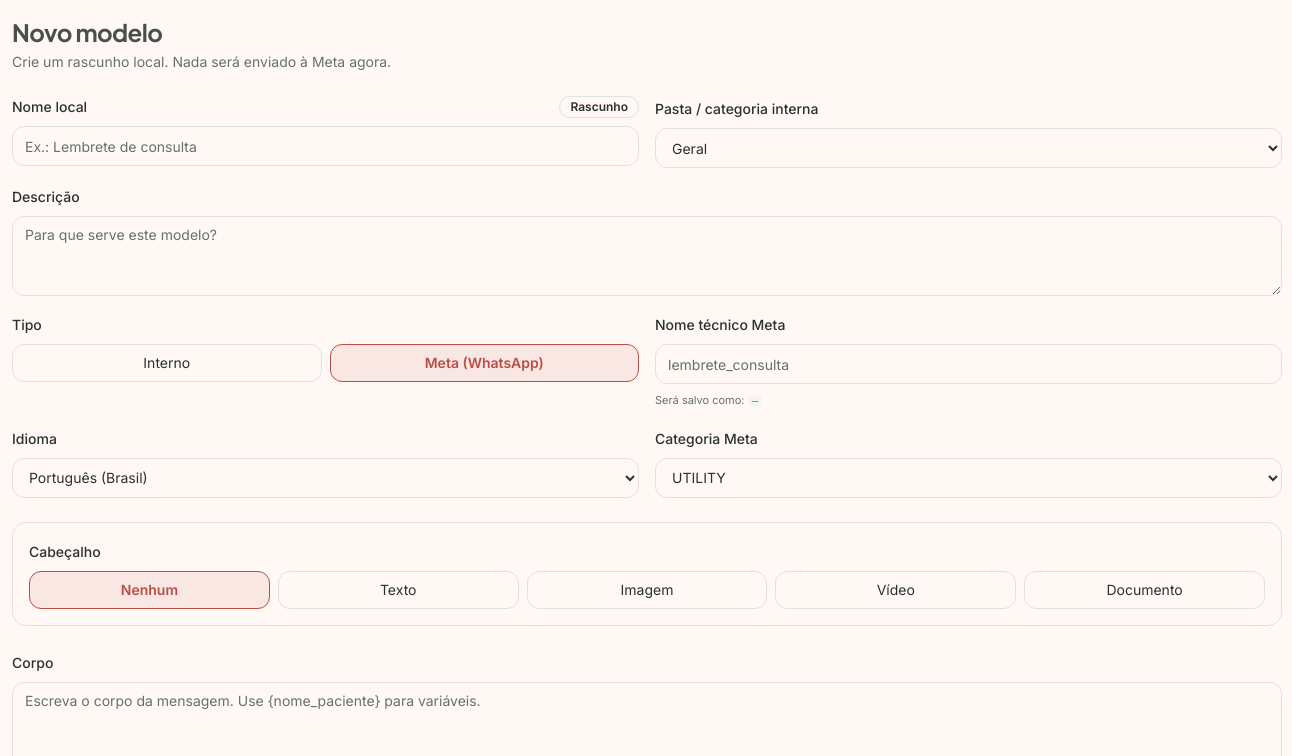
Test case: MessageTemplateNew › shows an error when Meta name is invalid
This screenshot has width=1292, height=756.
Step 1. Type "Nome inválido" into the field labelled "Nome local" → (326, 146), box [12,126,639,166]
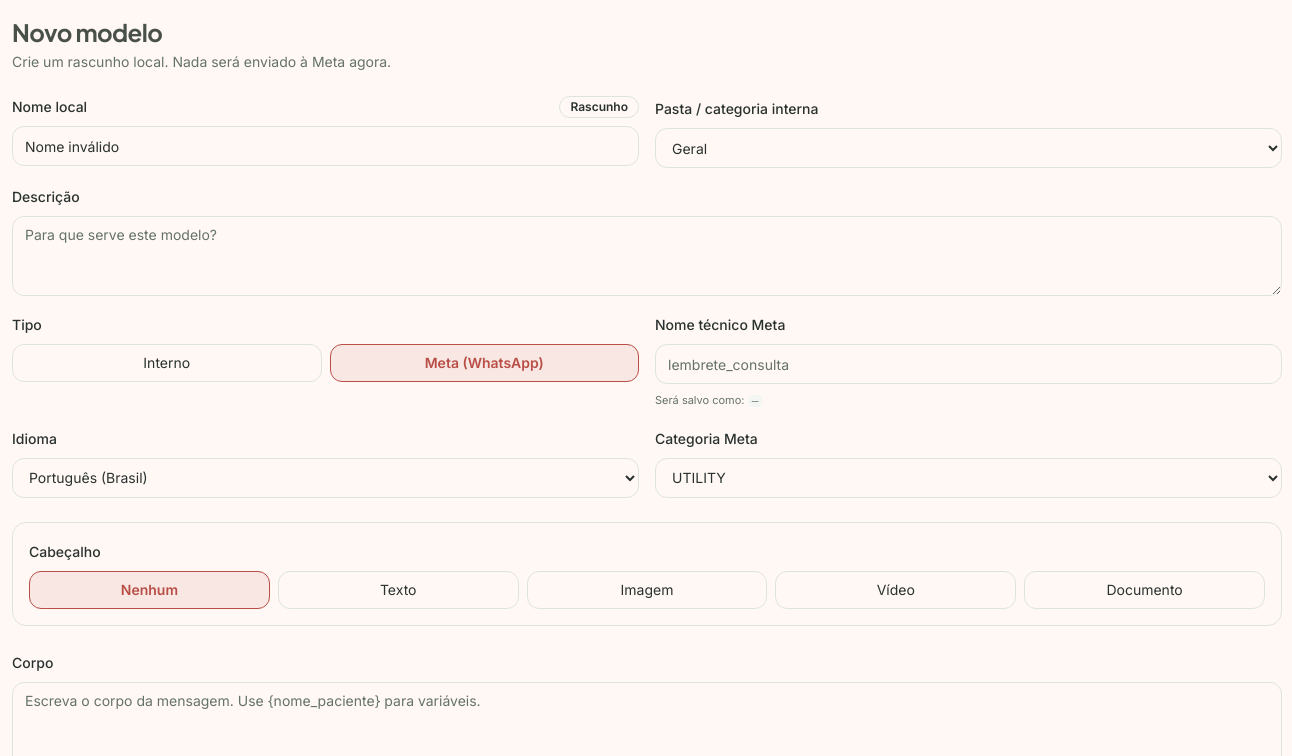
Step 2. Type "Foo Bar!" into the field labelled "Nome técnico Meta" → (968, 364), box [655,344,1282,384]
(page scrolled)
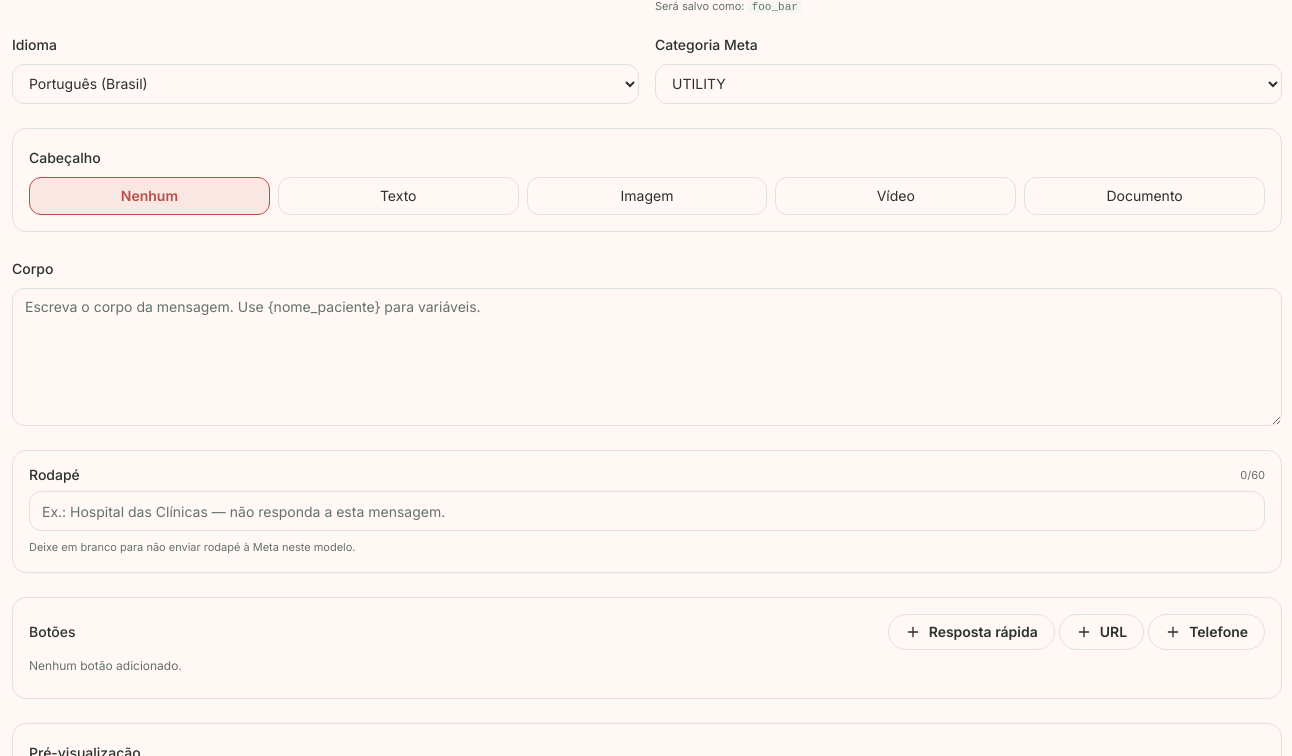
Step 3. Replace the text in the text box labelled "Corpo" with "Olá, tudo bem?" → (647, 356), box [12,288,1282,426]
(page scrolled)
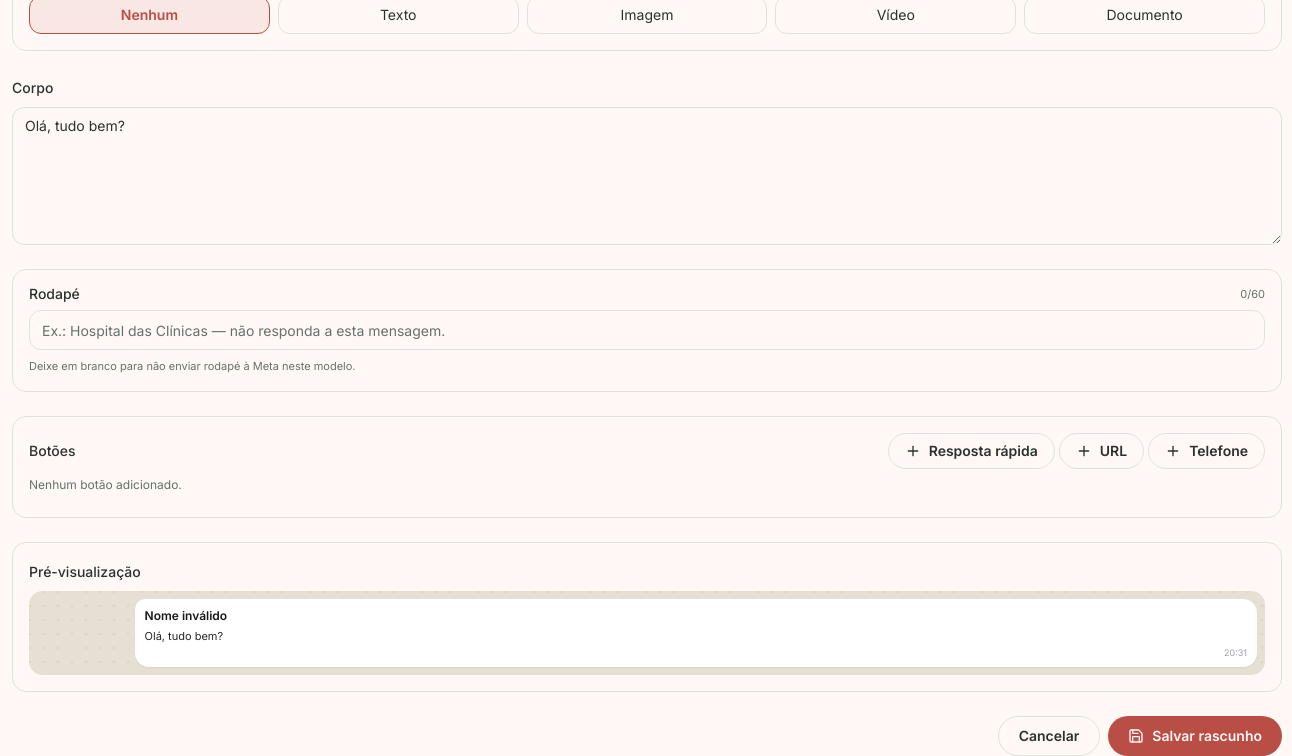
Step 4. Click the button "Salvar rascunho" → (1195, 736), box [1108,716,1282,755]
(page scrolled)
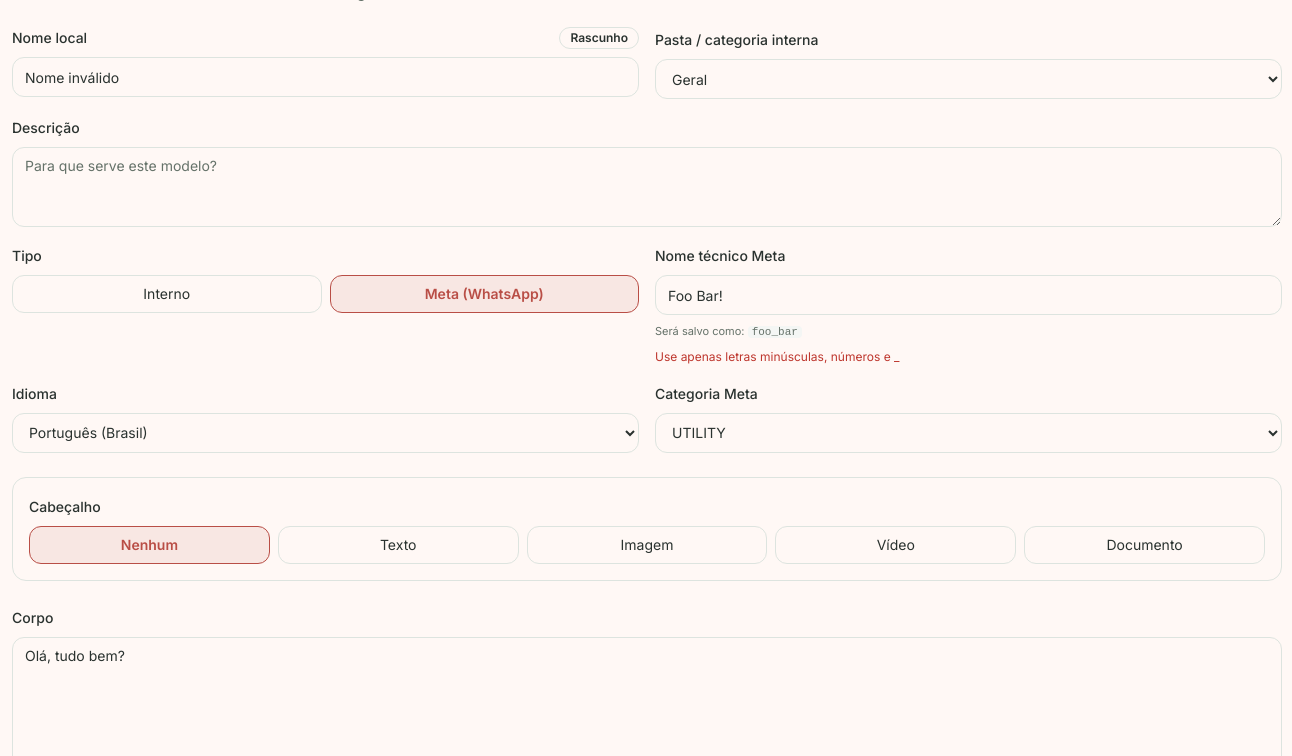
Expected: the text "Use apenas letras minúsculas, números e _" is shown, [655,348,900,364]
